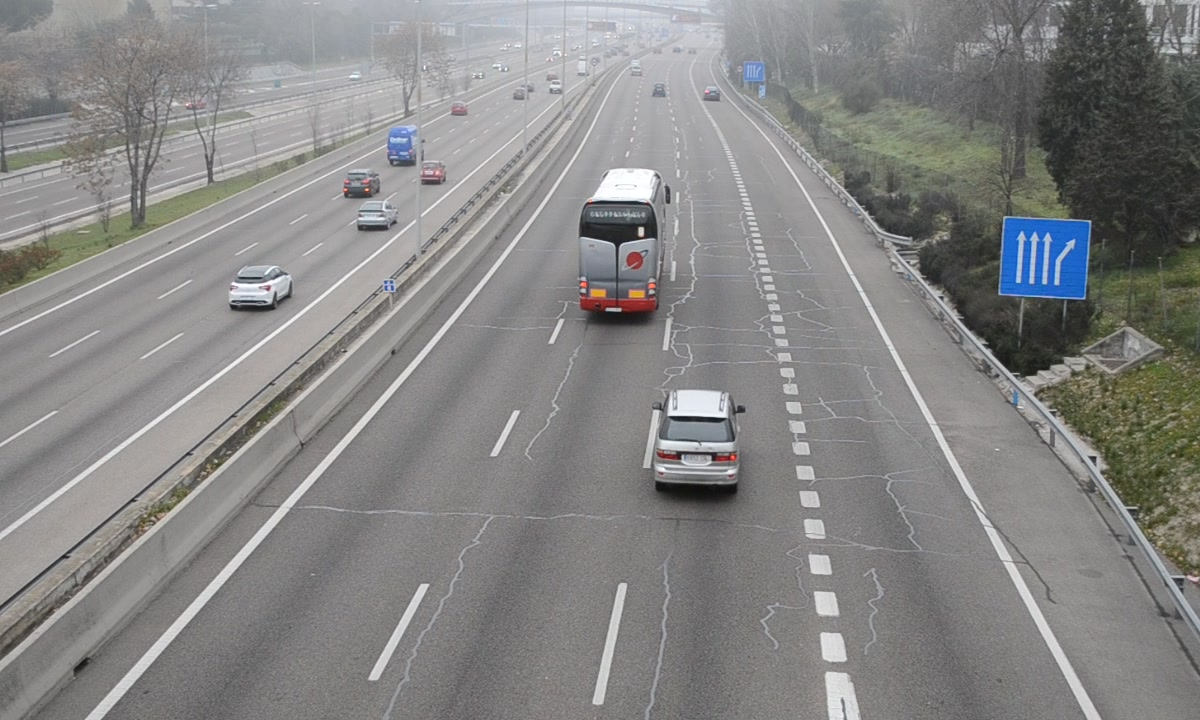bus: (577, 169, 666, 317)
car: (653, 389, 741, 490)
